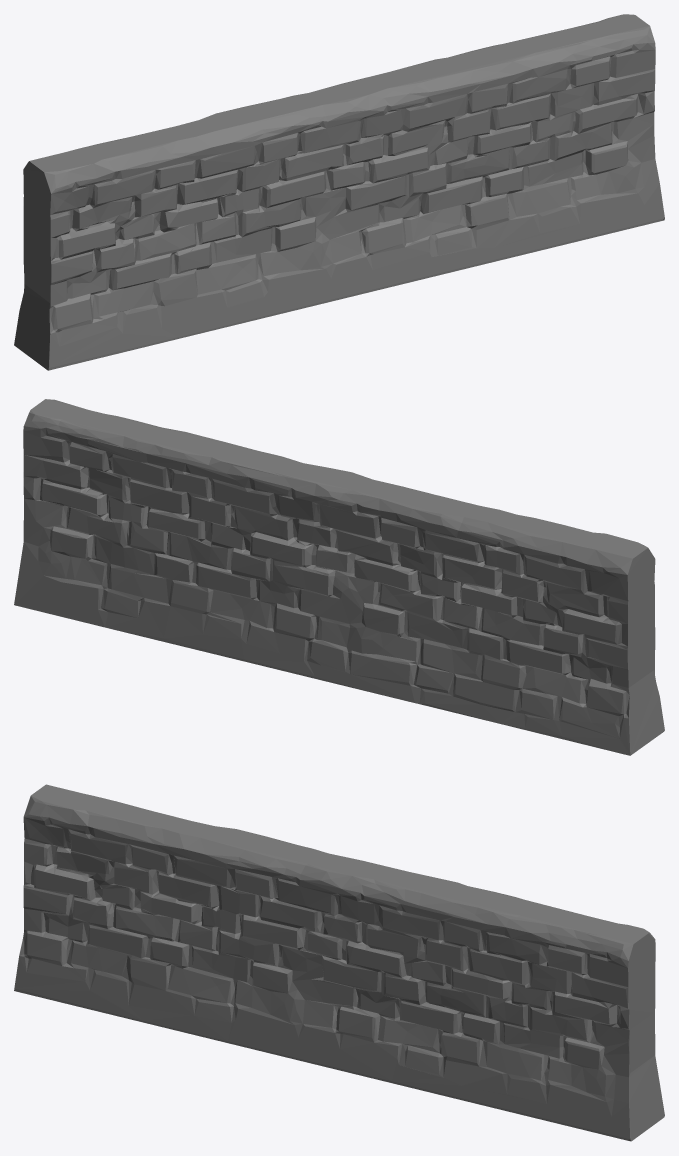
Rendered from village_wall_5x1m.FBX.
The picture shows the model from 3 angles, top to bottom: view 1: azimuth 30°, elevation 25°; view 2: azimuth 150°, elevation 25°; view 3: azimuth 330°, elevation 25°; orthographic projection.
Visible parts, largest first — view 1: village_wall_5x1m; view 2: village_wall_5x1m; view 3: village_wall_5x1m.
Boxes of the visible parts, box(x1,y1,x2,y2) form: village_wall_5x1m: box(14, 14, 664, 370); village_wall_5x1m: box(14, 399, 664, 755); village_wall_5x1m: box(14, 784, 664, 1141).
Size of the model in its own units: 5.1 by 1.5 by 0.4983.
